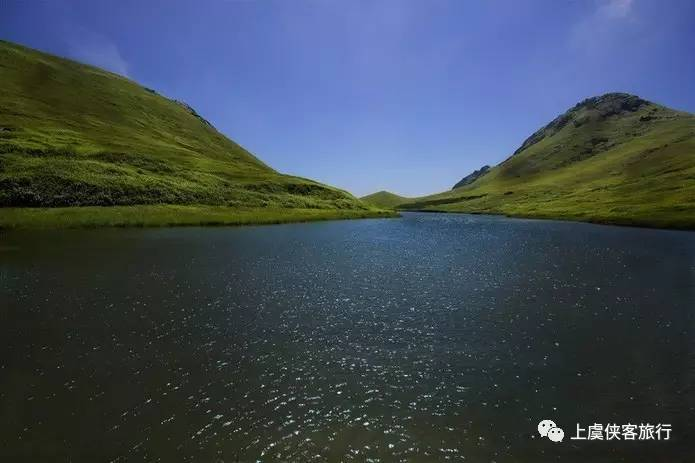sea_river: (0, 220, 695, 442)
